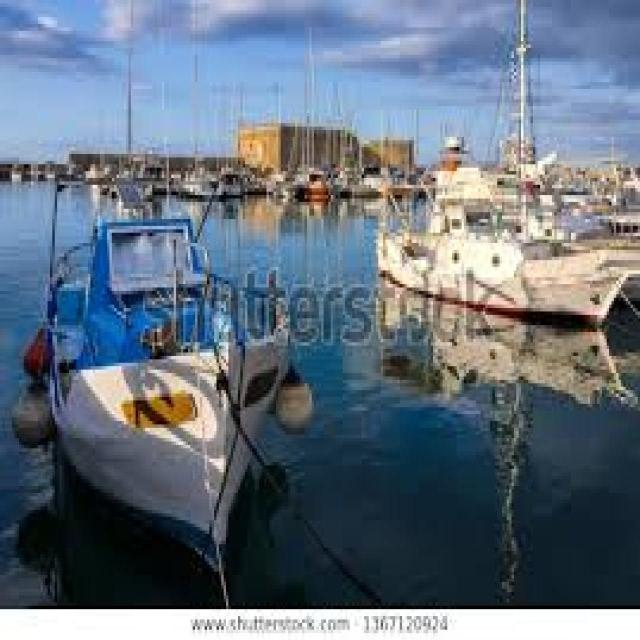Kules: (234, 123, 414, 177)
